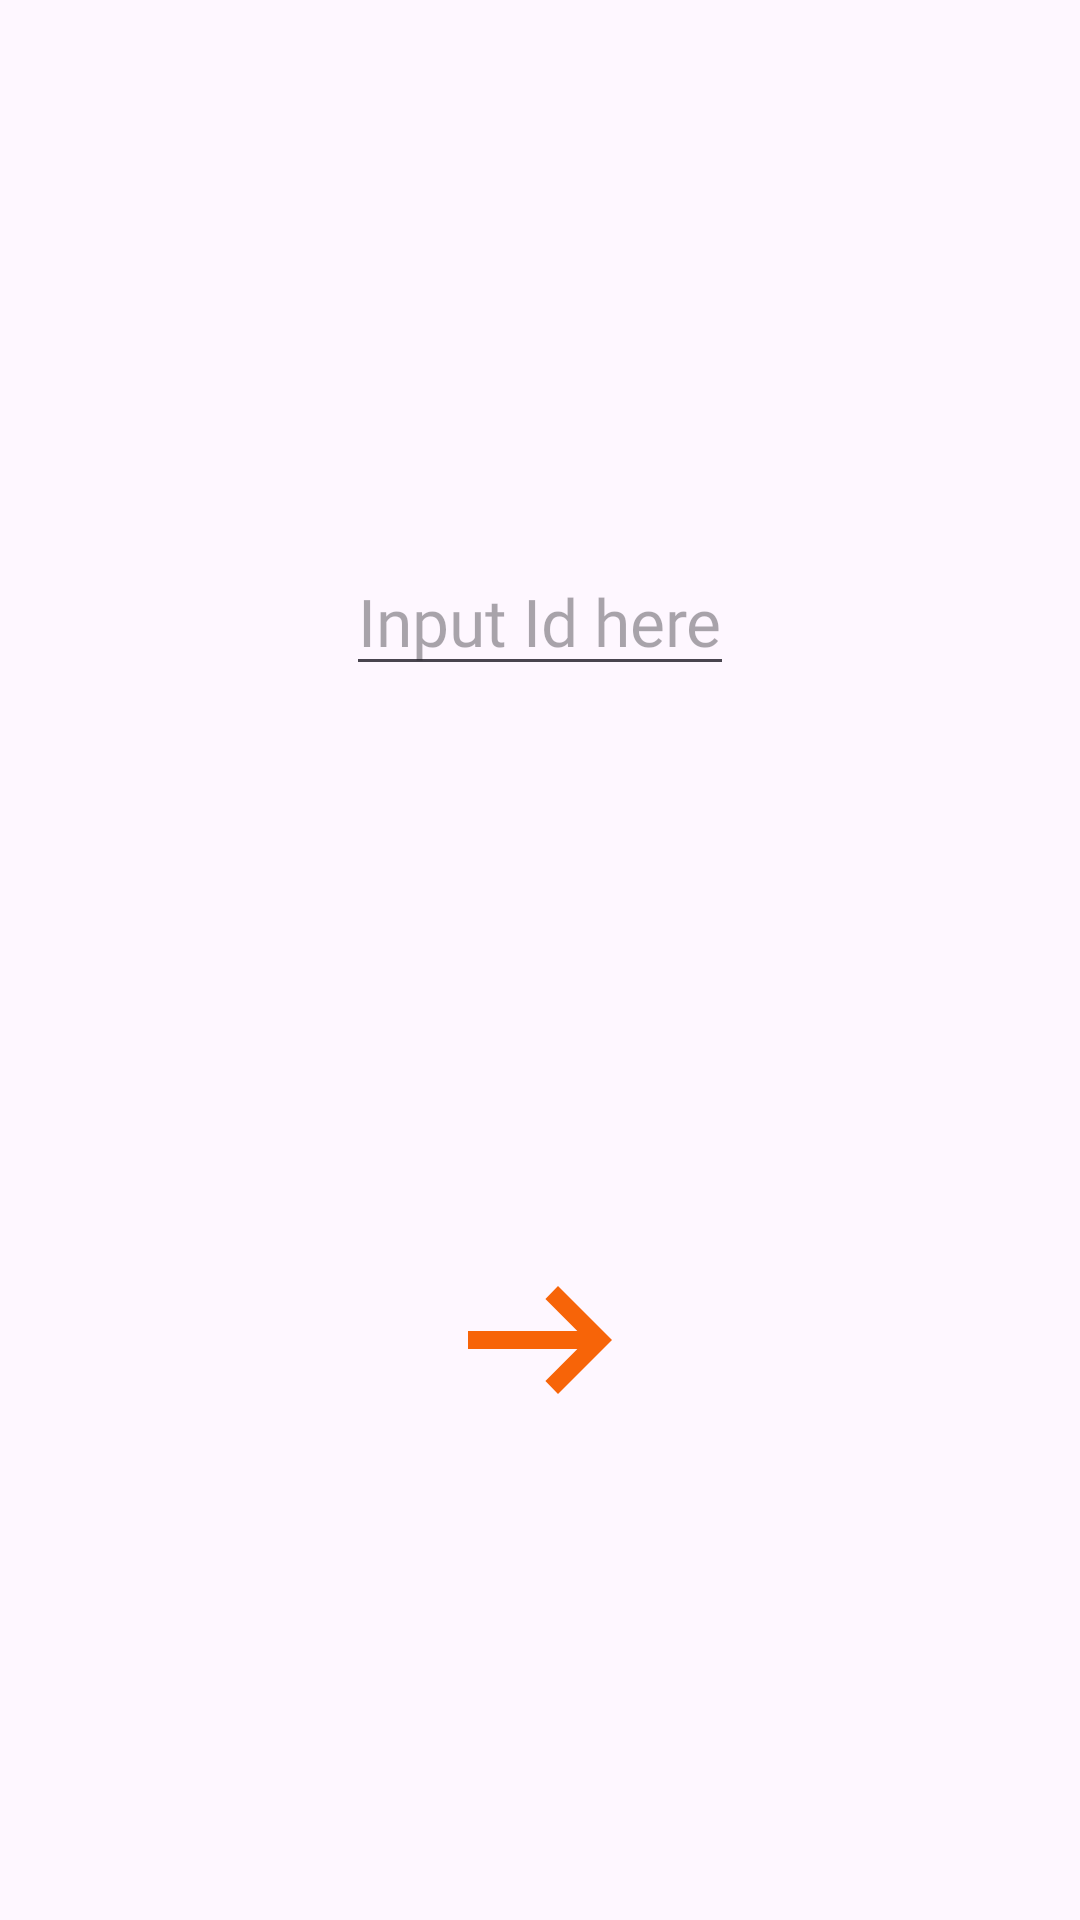

Icon click points for this 1080*1920 phone screenshot, format [x,y]:
arrow right: [540,1340]
